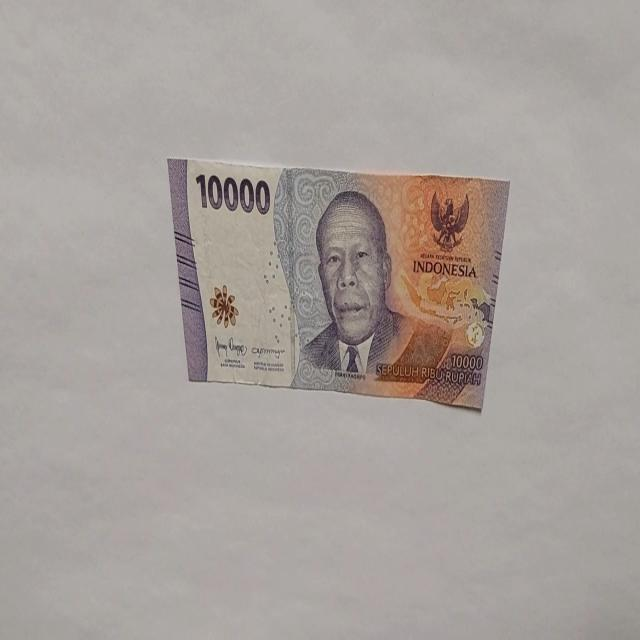sepuluh ribu rupiah: (167, 154, 510, 410), (290, 188, 452, 390)
